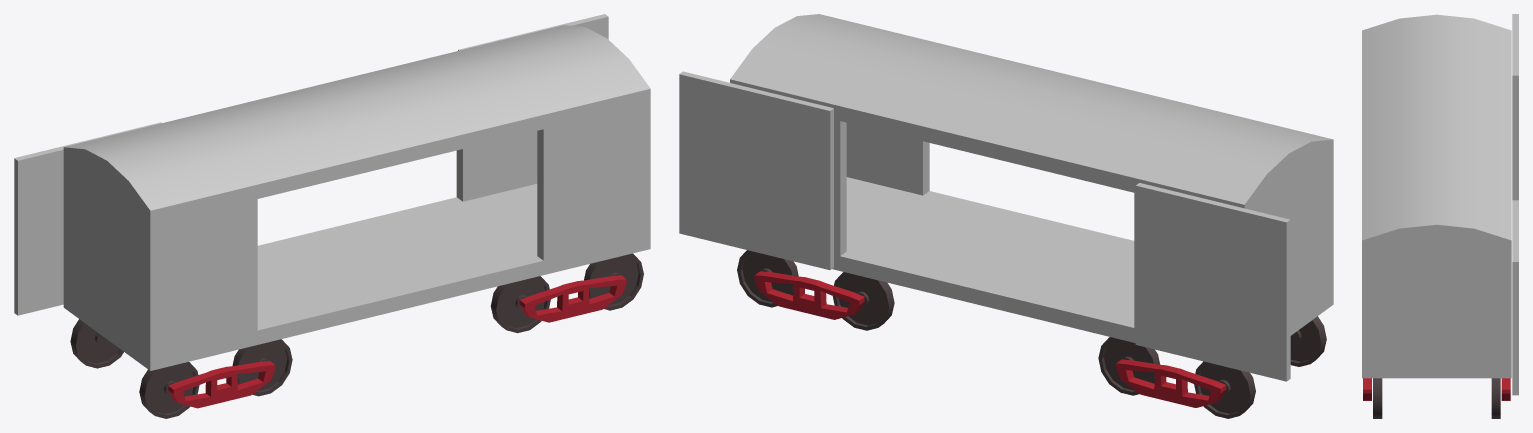
File: boxcar.fbx
The picture shows the model from 3 angles, left to right: view 1: azimuth 30°, elevation 25°; view 2: azimuth 150°, elevation 25°; view 3: azimuth 270°, elevation 25°; orthographic projection. The views are drawn at different scales.
Visible parts, largest first — view 1: traincar, door1, wheel2, wheel3, wheel1, door; view 2: traincar, door1, door, wheel, wheel1, wheel2; view 3: traincar, door, door1, wheel, wheel3.
Part boxes in pixels (x1,y1,x2,y2): traincar: [63, 25, 650, 370]; door1: [14, 122, 161, 315]; wheel2: [139, 339, 292, 418]; wheel3: [490, 253, 643, 333]; wheel1: [70, 319, 123, 368]; door: [458, 14, 608, 50]; traincar: [730, 14, 1333, 342]; door1: [1135, 183, 1290, 381]; door: [679, 71, 833, 269]; wheel: [737, 250, 894, 330]; wheel1: [1098, 337, 1255, 418]; wheel2: [1290, 316, 1326, 366]; traincar: [1362, 14, 1511, 378]; door: [1512, 200, 1518, 395]; door1: [1512, 14, 1518, 200]; wheel: [1491, 378, 1510, 418]; wheel3: [1363, 378, 1382, 418].
Size of the model in its own units: 128 by 48.87 by 34.1.
